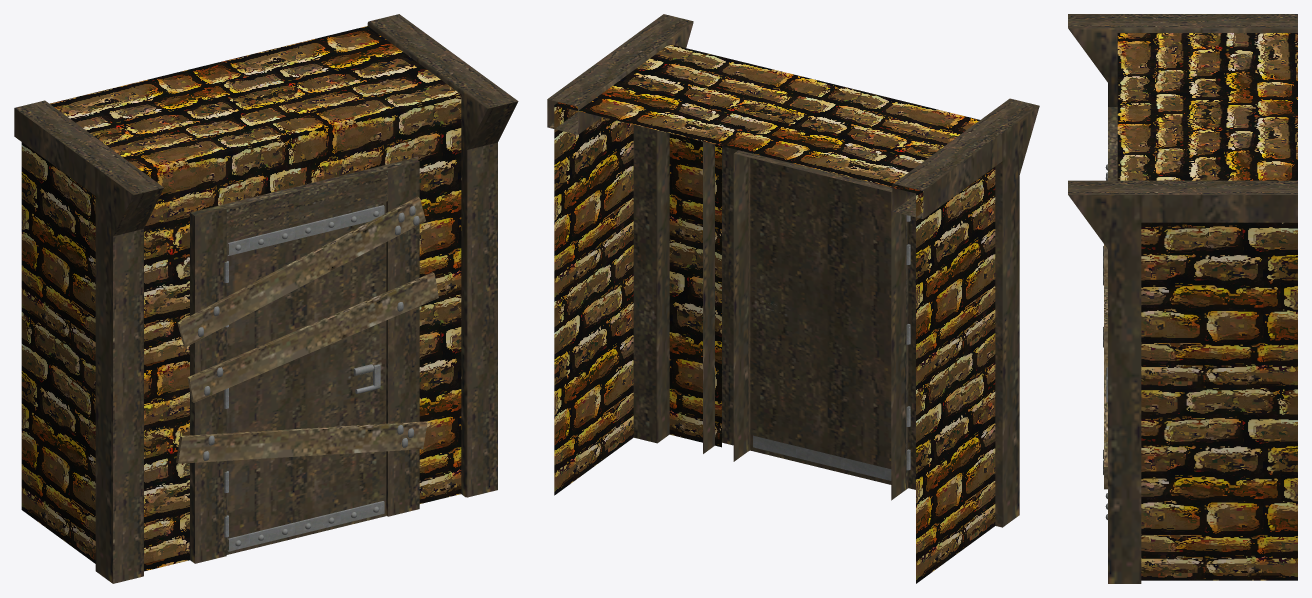
The model's file is stoneDoorA.fbx.
The picture shows the model from 3 angles, left to right: view 1: azimuth 30°, elevation 25°; view 2: azimuth 150°, elevation 25°; view 3: azimuth 270°, elevation 25°; orthographic projection. The views are drawn at different scales.
Parts seen in each view (by area): view 1: stoneDoorA; view 2: stoneDoorA; view 3: stoneDoorA.
Part boxes in pixels (x1,y1,x2,y2): stoneDoorA: (14, 14, 518, 583); stoneDoorA: (547, 14, 1039, 583); stoneDoorA: (1068, 14, 1297, 583).
Size of the model in its own units: 300 by 301 by 161.
